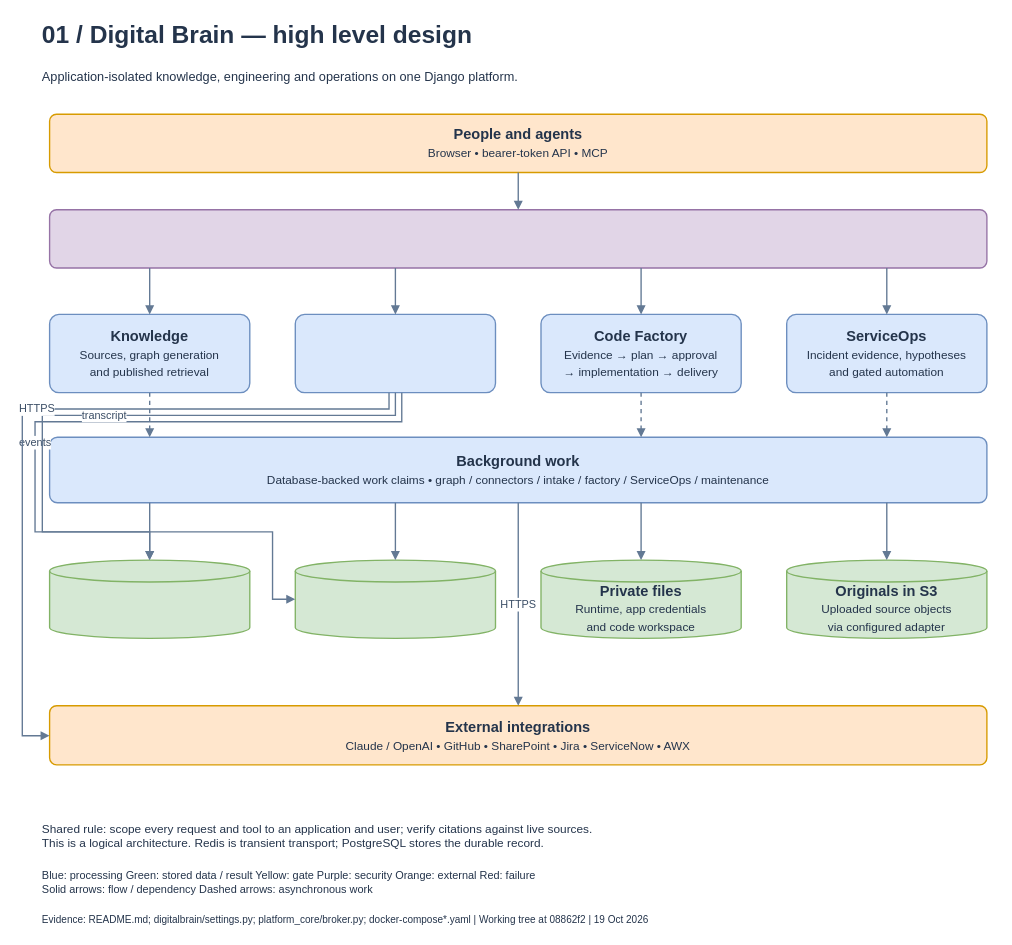
Image size: 1012x945. Some labels were removed from this diagram. The shapes that lost their labels are listed below. From the top down, each one's box as (x1, y1, x2, y2) in pixels, then its label:
(49, 209, 987, 268): Application boundary Authentication → feature and grant checks → tenant binding
(294, 313, 496, 393): Chat Excerpts, AI answers and graph answers
(49, 559, 250, 639): PostgreSQL Records, graph versions, chat, jobs and audit
(294, 559, 496, 639): Redis over TLS Answer events, Stop signals and API rate limits
